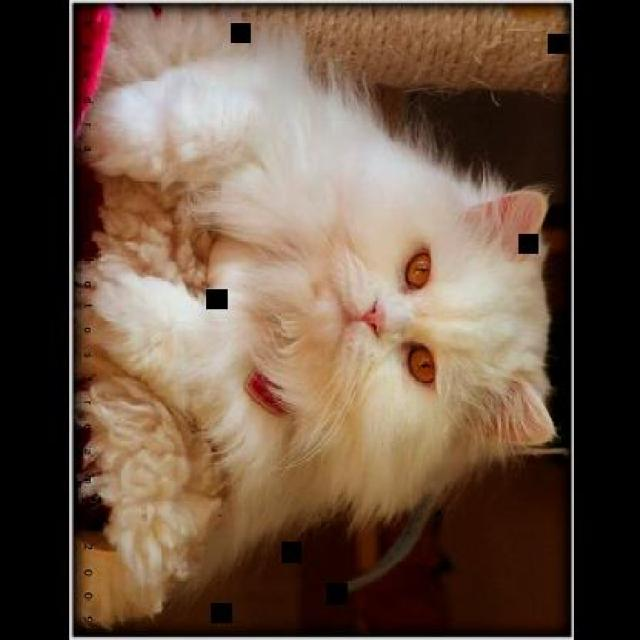unauthorized: (74, 8, 566, 629)
